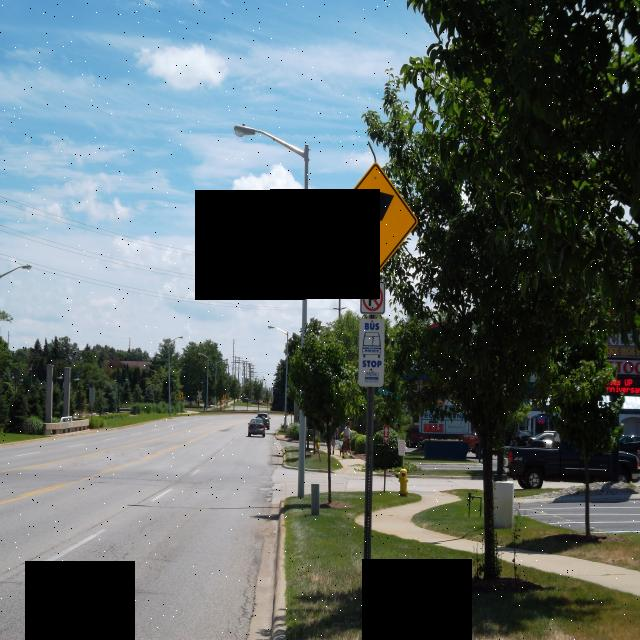regulatory: (358, 282, 388, 314)
warning: (331, 160, 420, 276)
